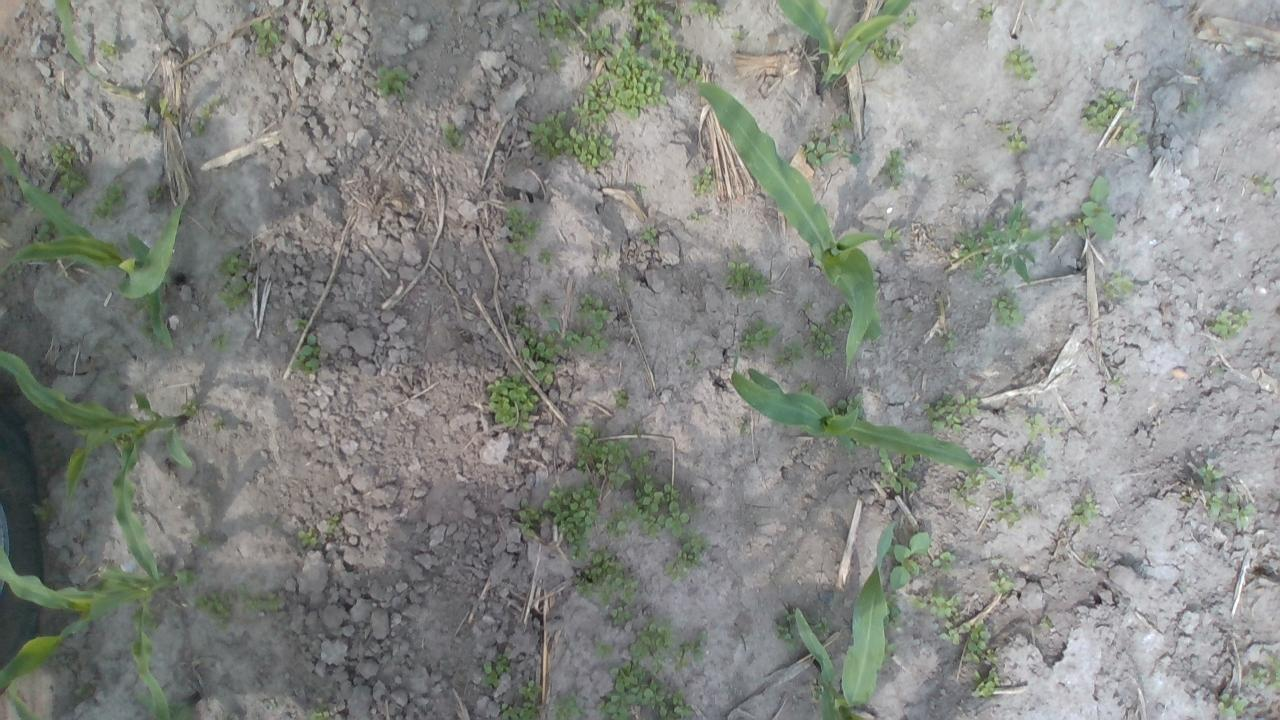Maize: (698, 81, 881, 377), (0, 431, 181, 720), (0, 351, 191, 583), (0, 141, 187, 354), (728, 352, 1006, 486), (796, 518, 894, 720), (775, 0, 913, 94), (2, 684, 202, 720), (54, 0, 97, 88)
Weeds: (952, 199, 1039, 288), (596, 659, 694, 720), (604, 31, 668, 120), (526, 110, 618, 169), (542, 481, 600, 562), (570, 419, 632, 492), (1195, 462, 1257, 530), (573, 547, 639, 605), (486, 373, 540, 435), (603, 501, 690, 539), (212, 248, 258, 314), (1073, 174, 1116, 243), (629, 454, 680, 511), (1078, 86, 1136, 136), (885, 528, 930, 590), (652, 38, 704, 88), (801, 130, 865, 170), (46, 142, 90, 200), (924, 390, 980, 433), (546, 316, 609, 354), (570, 74, 615, 127), (629, 616, 674, 668), (663, 527, 706, 581), (876, 446, 922, 496), (129, 296, 169, 352), (504, 205, 545, 257), (630, 0, 681, 41), (497, 679, 543, 720), (723, 261, 770, 300), (191, 591, 233, 633), (908, 586, 959, 620), (88, 180, 126, 224), (1004, 444, 1048, 482), (238, 582, 284, 618), (1206, 303, 1253, 338), (990, 285, 1026, 330), (373, 62, 413, 102), (573, 290, 610, 330), (830, 382, 865, 424), (1001, 43, 1039, 81), (738, 317, 779, 352), (772, 608, 803, 652), (532, 4, 572, 38), (481, 647, 515, 687), (970, 652, 1000, 697), (869, 32, 906, 68), (250, 18, 284, 57), (521, 329, 563, 360), (1022, 412, 1064, 443), (1066, 490, 1100, 528), (960, 620, 990, 662), (292, 334, 322, 376), (512, 496, 540, 540), (1249, 652, 1280, 691), (803, 323, 837, 358), (876, 148, 904, 190), (192, 97, 222, 136), (674, 631, 706, 667), (990, 488, 1018, 528), (1110, 118, 1148, 147), (1216, 688, 1250, 720), (550, 690, 584, 720), (439, 120, 466, 154), (572, 0, 602, 30), (508, 301, 531, 339), (584, 24, 614, 52), (774, 338, 802, 368), (1102, 270, 1132, 298), (884, 593, 906, 629), (688, 166, 716, 194), (827, 302, 855, 330), (987, 566, 1015, 592), (1006, 130, 1032, 158), (1040, 220, 1074, 240), (807, 615, 834, 640), (878, 227, 905, 252), (928, 548, 956, 572), (948, 487, 978, 508), (936, 620, 962, 644), (684, 0, 720, 16), (534, 360, 556, 385), (34, 221, 58, 243), (861, 318, 881, 344), (172, 568, 200, 586), (296, 527, 321, 546), (829, 110, 854, 129), (592, 637, 614, 658), (210, 330, 231, 352), (544, 45, 564, 67), (612, 604, 632, 626), (98, 40, 120, 60), (30, 504, 51, 524), (324, 512, 342, 535), (190, 534, 213, 552), (962, 472, 986, 489), (640, 224, 659, 245), (974, 2, 993, 23), (1254, 174, 1274, 193), (882, 637, 897, 662), (942, 328, 956, 354), (157, 96, 172, 120), (178, 397, 196, 416), (536, 248, 555, 266), (902, 8, 919, 28), (304, 708, 332, 720), (306, 7, 328, 22), (838, 438, 861, 452), (137, 122, 159, 136), (148, 183, 163, 203), (1183, 96, 1201, 112), (612, 389, 626, 408), (510, 0, 530, 12), (600, 0, 624, 10), (732, 29, 748, 44), (329, 31, 343, 48), (996, 121, 1013, 135), (811, 684, 824, 702), (799, 380, 814, 395), (631, 182, 647, 196), (686, 210, 704, 222), (1186, 56, 1202, 69), (1108, 374, 1122, 388), (212, 417, 225, 432), (292, 318, 308, 330), (1038, 619, 1056, 629), (1084, 557, 1096, 569), (78, 686, 89, 698), (738, 422, 748, 434), (1106, 40, 1117, 48)
